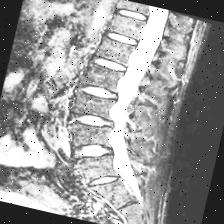disc: (65, 136, 114, 167), (90, 47, 132, 81), (81, 167, 125, 192), (104, 25, 144, 50), (112, 4, 150, 28)
hdisc: (68, 108, 116, 138), (78, 81, 122, 106)
